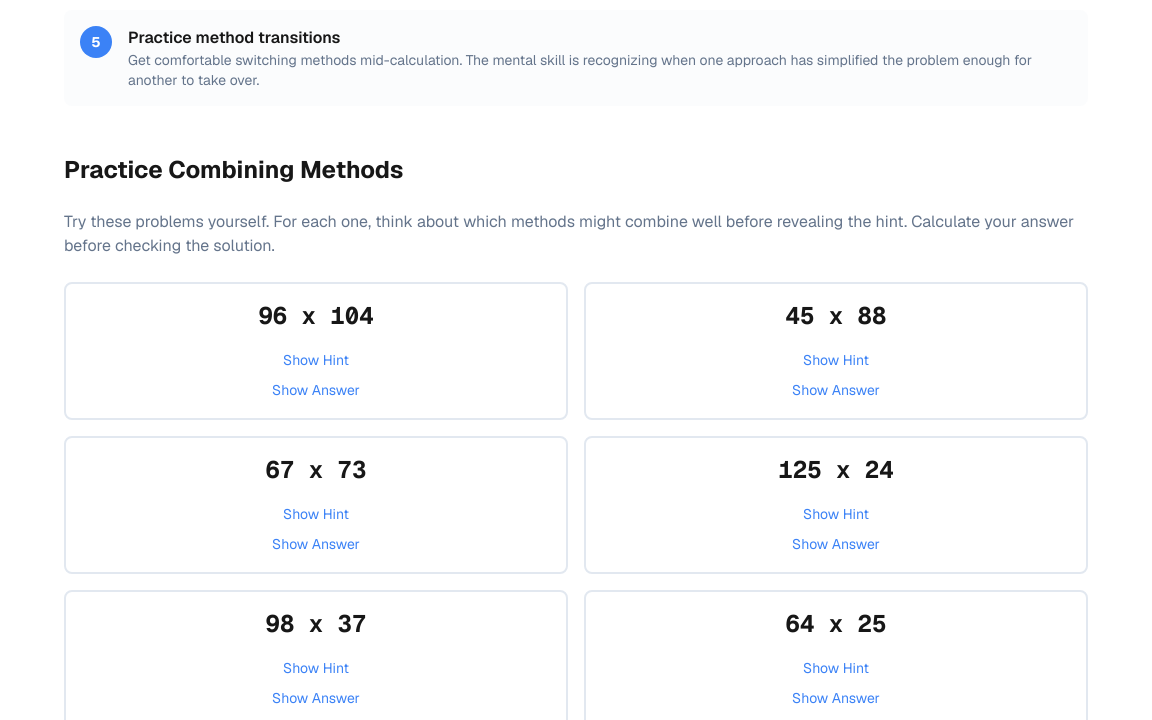
Test: CombiningTechniquesPage › practice exercises section › should toggle hint visibility
(page scrolled)
// Click to show hint
Click the 1st button "Show Hint" at (316, 360), box top-left (82, 350), bottom-right (550, 370)
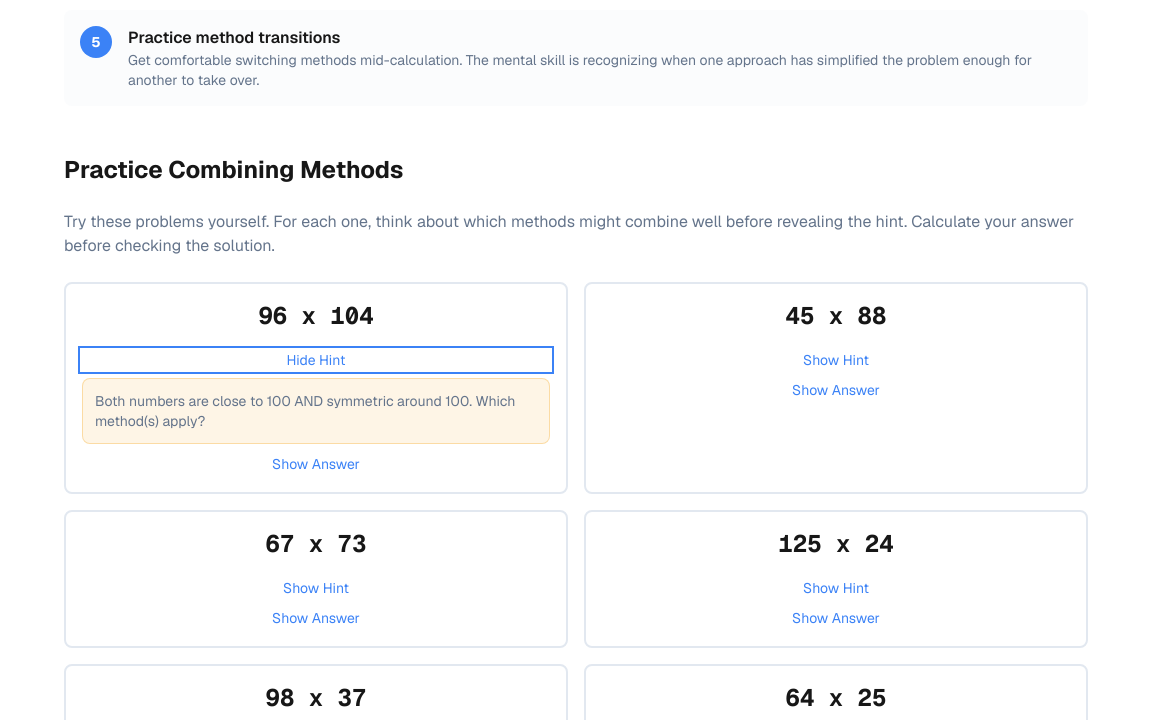
Expected: the button "show hint" reads "Hide Hint"
// Click to hide hint
Click the button "show hint" at (316, 360), box top-left (82, 350), bottom-right (550, 370)
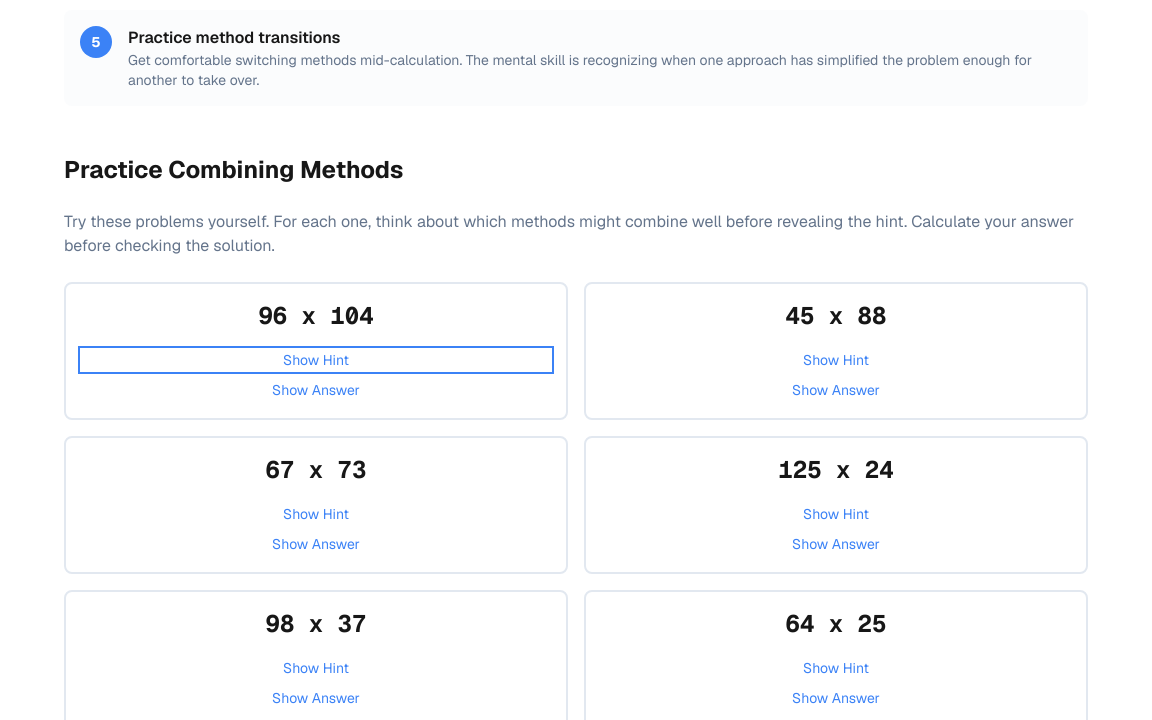
Expected: the 1st button "Show Hint" is shown, top-left (82, 350), bottom-right (550, 370)
